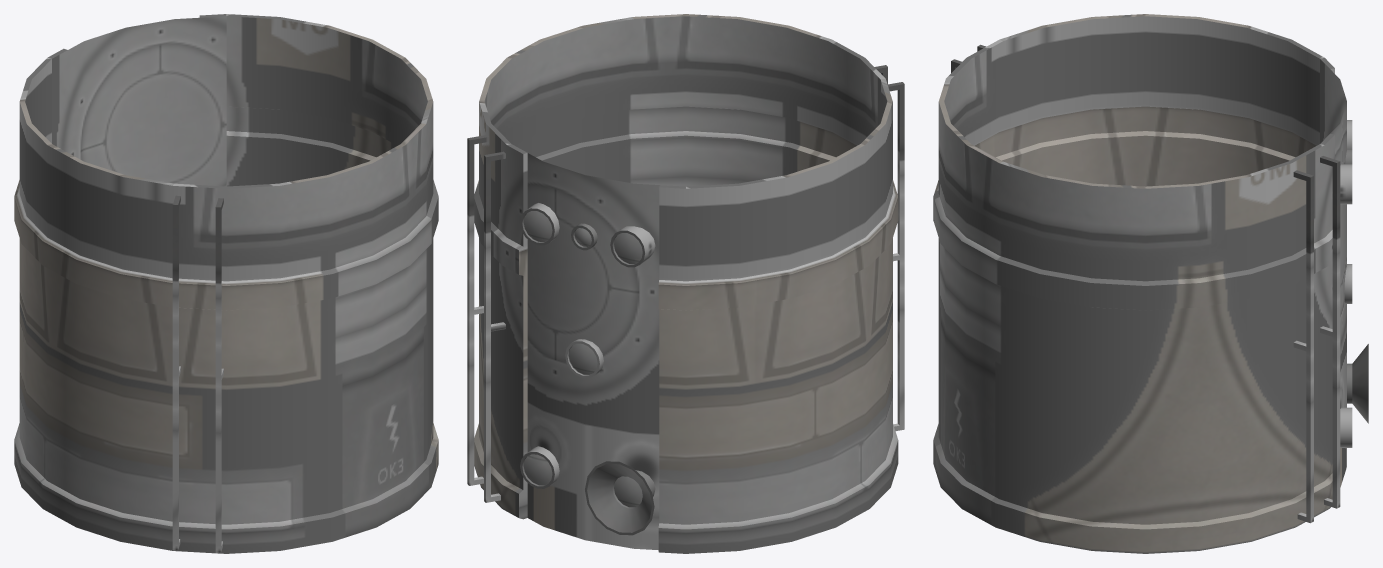
Rendered from eridani_crew_s1p5_1.obj.
3 renders of one model, left to right at view 1: azimuth 30°, elevation 25°; view 2: azimuth 150°, elevation 25°; view 3: azimuth 270°, elevation 25°, orthographic.
Parts seen in each view (by area): view 1: mesh1; view 2: mesh1, windows1; view 3: mesh1.
Part boxes in pixels (x1,y1,x2,y2): mesh1: (14, 14, 438, 553); mesh1: (467, 14, 904, 553); windows1: (523, 211, 642, 507); mesh1: (933, 14, 1368, 553).
Size of the model in its own units: 1.98 by 1.88 by 2.03.
2 materials, 2 textured.
